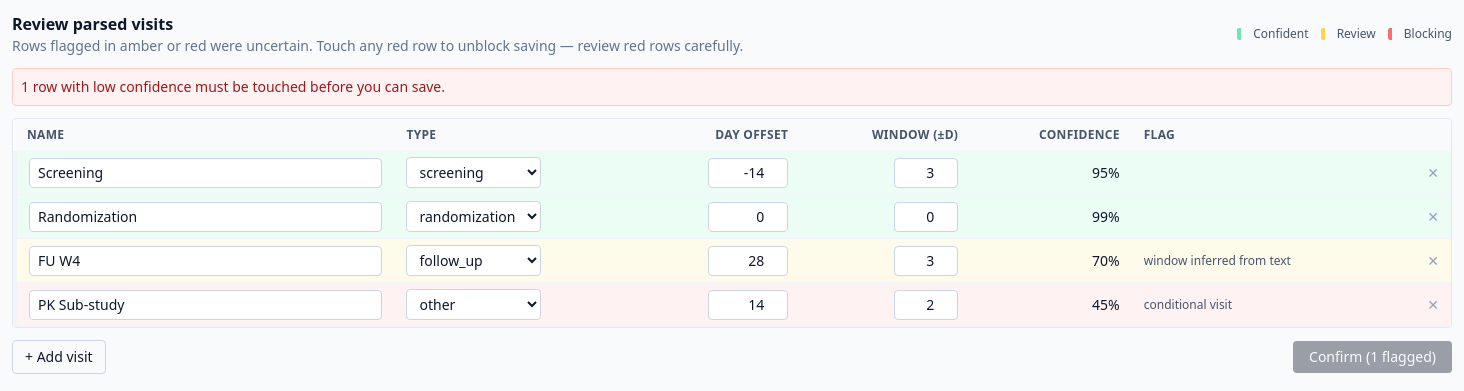
it: SoaReviewTable › lets the user remove a row
Expected: the number of rows is 5, x1=15 y1=119 x2=1451 y2=151; x1=15 y1=151 x2=1451 y2=194; x1=15 y1=194 x2=1451 y2=238; x1=15 y1=238 x2=1451 y2=282; x1=15 y1=282 x2=1451 y2=326
Remove the red row (index 3).
What coordinates should you click on to do the following:
click the button named "Remove row 4"
I would click on:
 (1433, 304)
Its box is x1=1427 y1=294 x2=1439 y2=314.
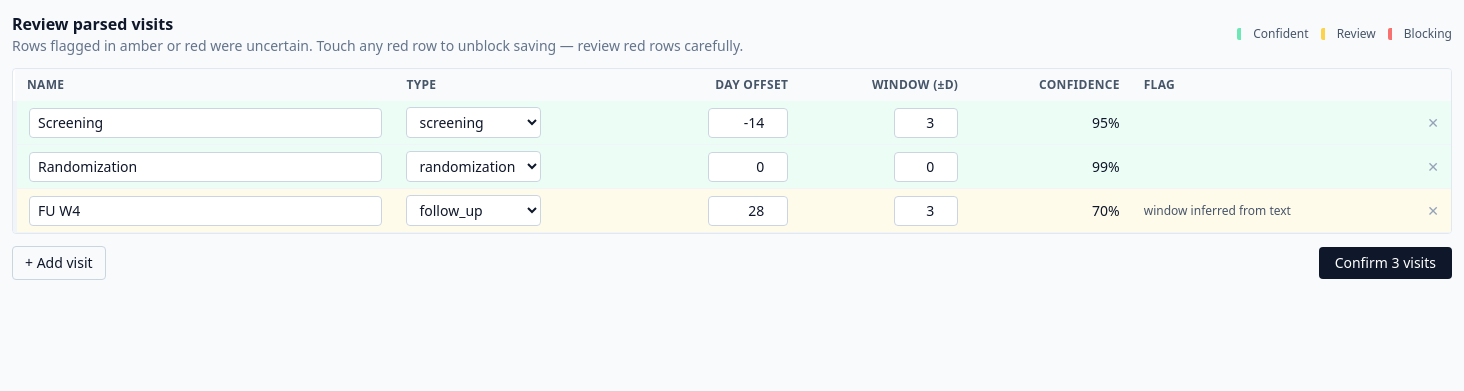
Expected: the row with test id "soa-row-3" is gone
Expected: the button with test id "soa-confirm-button" is enabled, x1=1319 y1=247 x2=1452 y2=279
